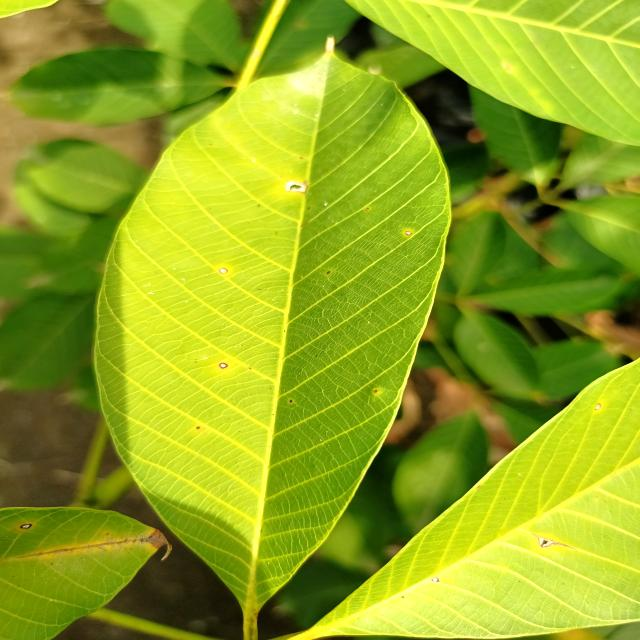Colletotrichum: (20, 524, 32, 529), (219, 363, 228, 369), (219, 268, 228, 274), (431, 577, 439, 582), (406, 232, 412, 236), (365, 208, 369, 211), (373, 390, 378, 392), (197, 426, 200, 429), (290, 400, 292, 402)
Leaf-Blight: (149, 529, 173, 560)
